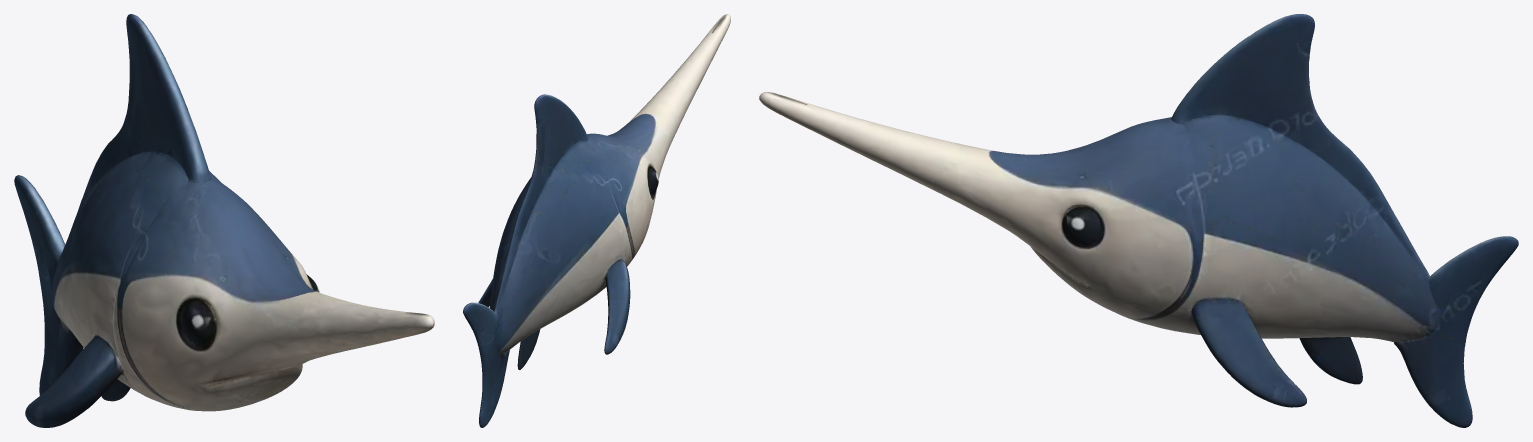
File: swardfish_pbr.glb
3 renders of one model, left to right at view 1: azimuth 30°, elevation 25°; view 2: azimuth 150°, elevation 25°; view 3: azimuth 270°, elevation 25°, orthographic. The views are drawn at different scales.
Parts seen in each view (by area): view 1: model.017; view 2: model.017; view 3: model.017.
Boxes of the visible parts, x1,y1,x2,y2 form: model.017: [14, 14, 434, 427]; model.017: [463, 14, 730, 427]; model.017: [759, 14, 1518, 427].
Size of the model in its own units: 0.6795 by 1.35 by 2.25.
1 material, 1 textured.
